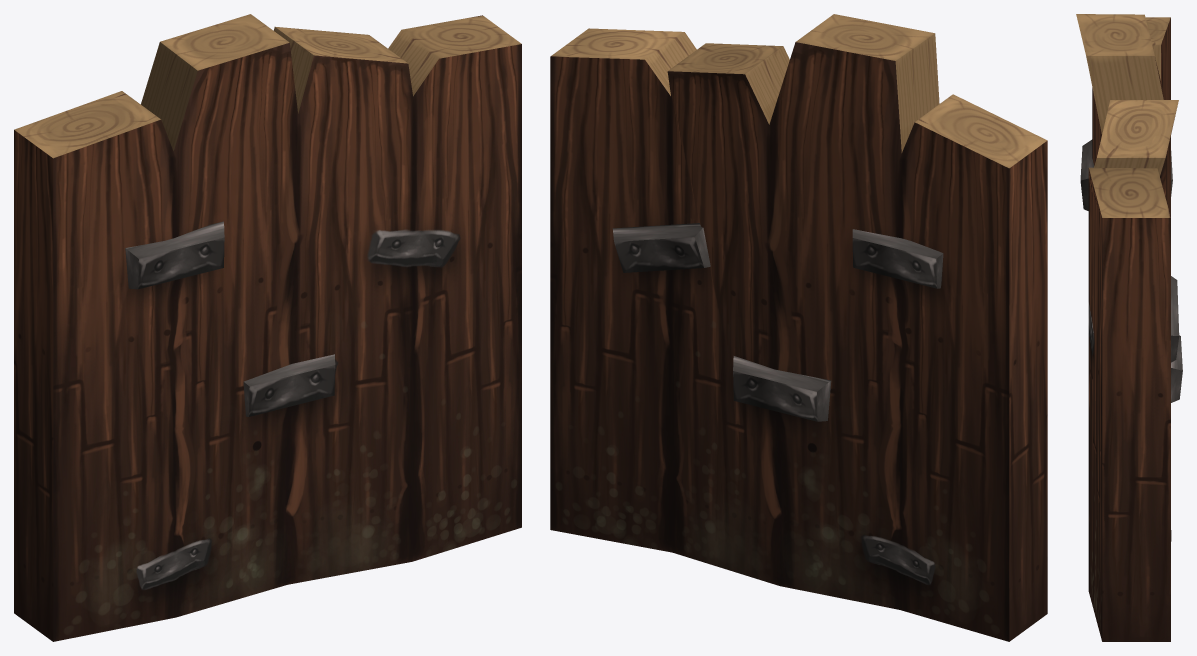
Rendered from TheWall.FBX.
The picture shows the model from 3 angles, left to right: view 1: azimuth 30°, elevation 25°; view 2: azimuth 150°, elevation 25°; view 3: azimuth 270°, elevation 25°; orthographic projection. The views are drawn at different scales.
Parts seen in each view (by area): view 1: Wall; view 2: Wall; view 3: Wall.
Part boxes in pixels (left/top/right/bottom): Wall: left=14, top=14, right=521, bottom=641; Wall: left=550, top=14, right=1047, bottom=641; Wall: left=1076, top=14, right=1182, bottom=641.
Bounding box in the file's own units: 1.23 × 1.38 × 0.2767.
